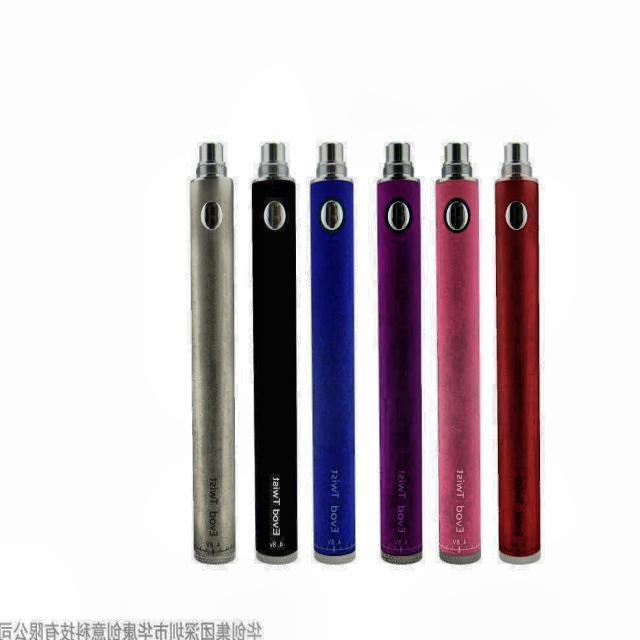battery: (377, 142, 423, 564), (190, 144, 236, 564), (495, 144, 541, 564), (252, 144, 298, 563), (310, 144, 355, 564), (436, 144, 481, 564)
